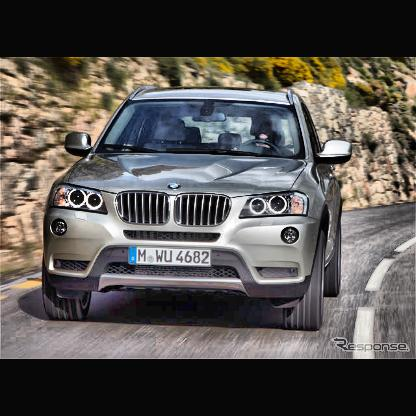BMW X3 SUV 2012: (44, 87, 355, 334)
